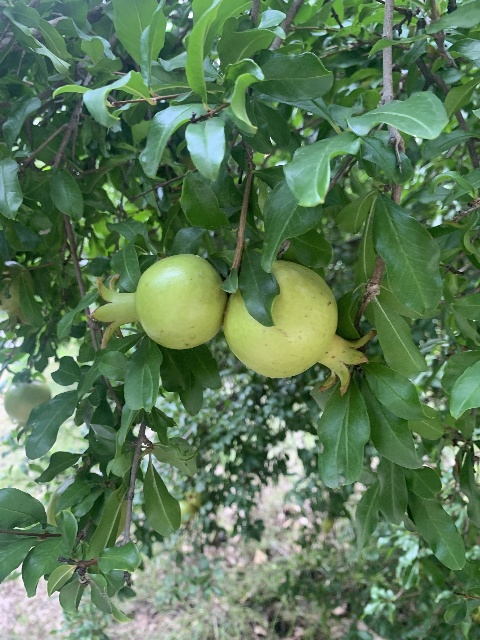mid-growth: (224, 259, 375, 395), (89, 254, 227, 350), (3, 379, 52, 433), (0, 260, 34, 332)
